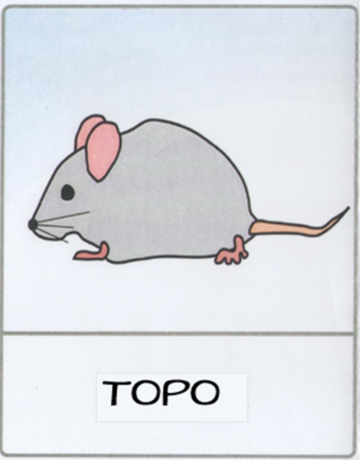topo: (4, 41, 353, 434)
